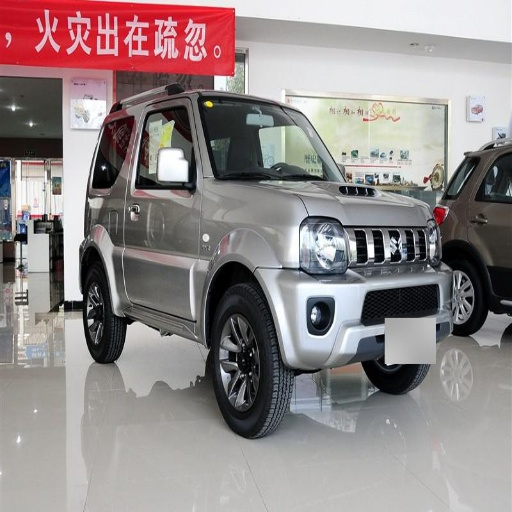front_bumper: (262, 226, 461, 370)
front_glass: (199, 96, 340, 181)
front_right_door: (124, 101, 197, 316)
front_right_light: (297, 216, 353, 277)
